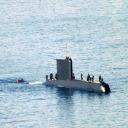submarine: (44, 59, 112, 94)
